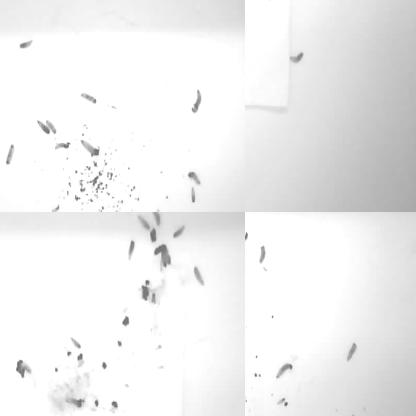PtecticusTenebrifer: (81, 140, 99, 156), (276, 362, 294, 378), (193, 266, 205, 288), (346, 342, 358, 363), (289, 50, 304, 66), (80, 91, 97, 105), (194, 88, 203, 112), (138, 214, 150, 232), (6, 144, 15, 166), (36, 120, 50, 134), (151, 212, 164, 227), (19, 38, 33, 51), (174, 223, 186, 238), (46, 117, 57, 133), (188, 170, 200, 184), (68, 336, 82, 348), (245, 323, 255, 339), (54, 141, 70, 150), (128, 240, 134, 263), (260, 243, 266, 263), (190, 187, 196, 206), (92, 0, 103, 10), (245, 292, 251, 310), (245, 365, 250, 385), (245, 397, 253, 409), (245, 297, 250, 316), (245, 26, 254, 36), (0, 375, 5, 391), (0, 345, 5, 361), (358, 212, 372, 217), (101, 0, 114, 5), (264, 212, 280, 216), (245, 0, 251, 10), (245, 192, 248, 212), (245, 230, 250, 241), (245, 0, 252, 7), (291, 0, 311, 2), (245, 212, 252, 217), (155, 207, 161, 212), (316, 212, 326, 215)
